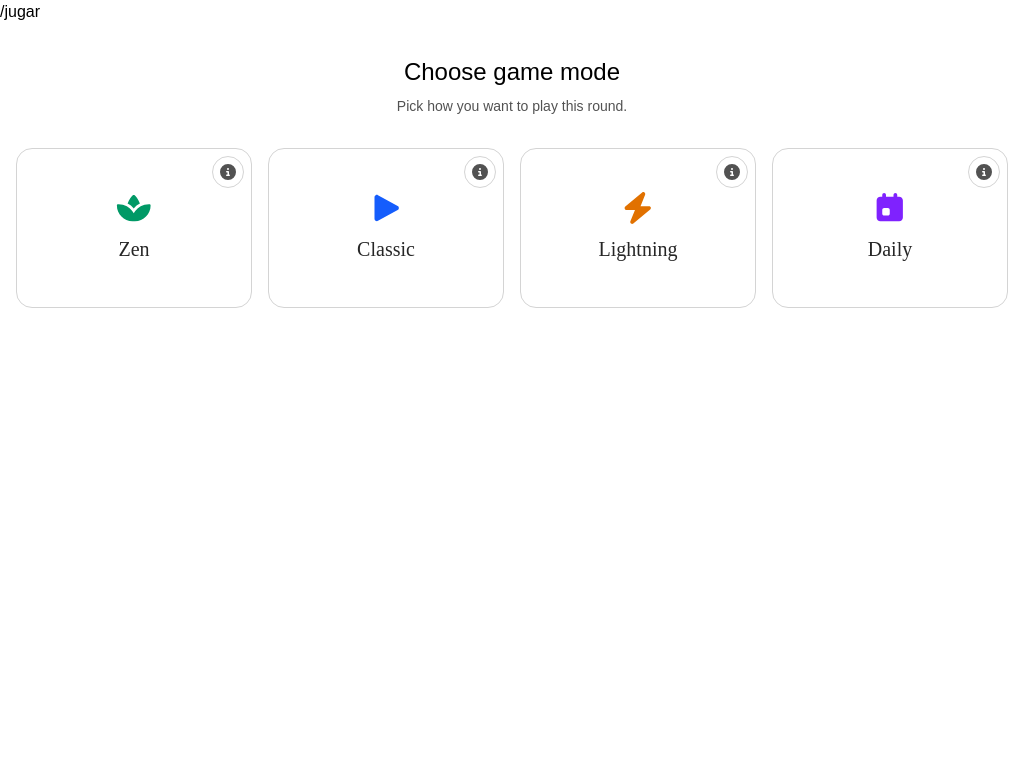
Test: GameModes › opens and closes the info dialog for a mode
Click the button named "Show details for Classic mode" at (480, 172), box top-left (464, 156), bottom-right (496, 188)
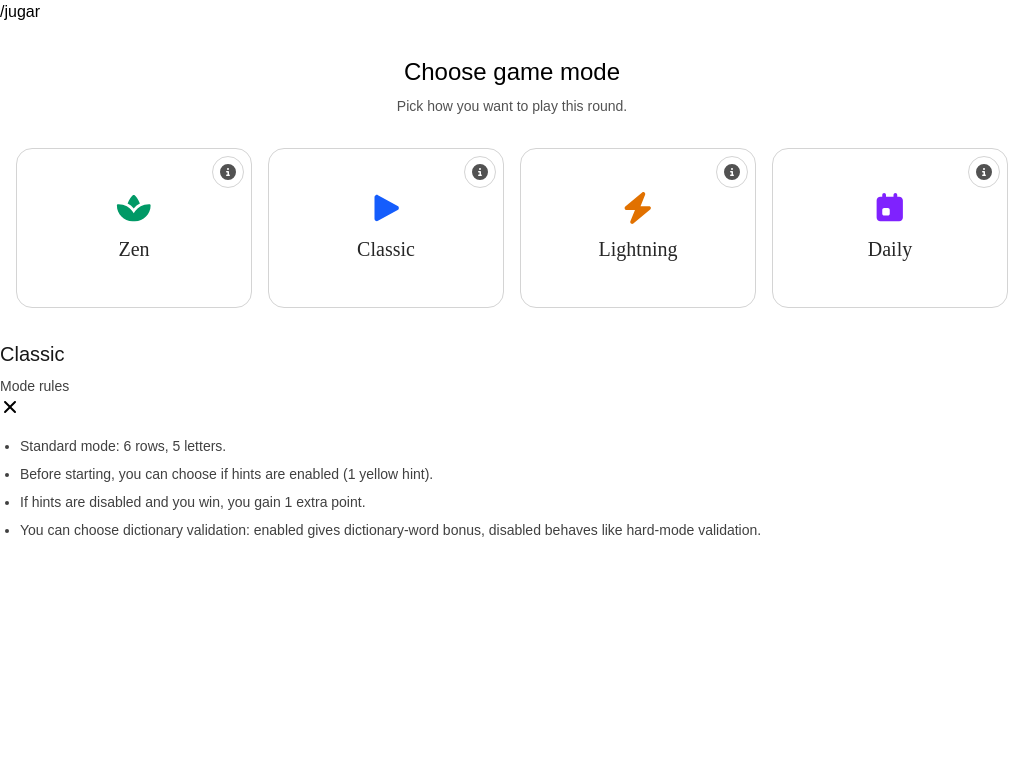
Expected: the heading "Classic" is shown, top-left (0, 343), bottom-right (64, 365)
Click the button named "Close" at (10, 408), box top-left (0, 396), bottom-right (20, 420)
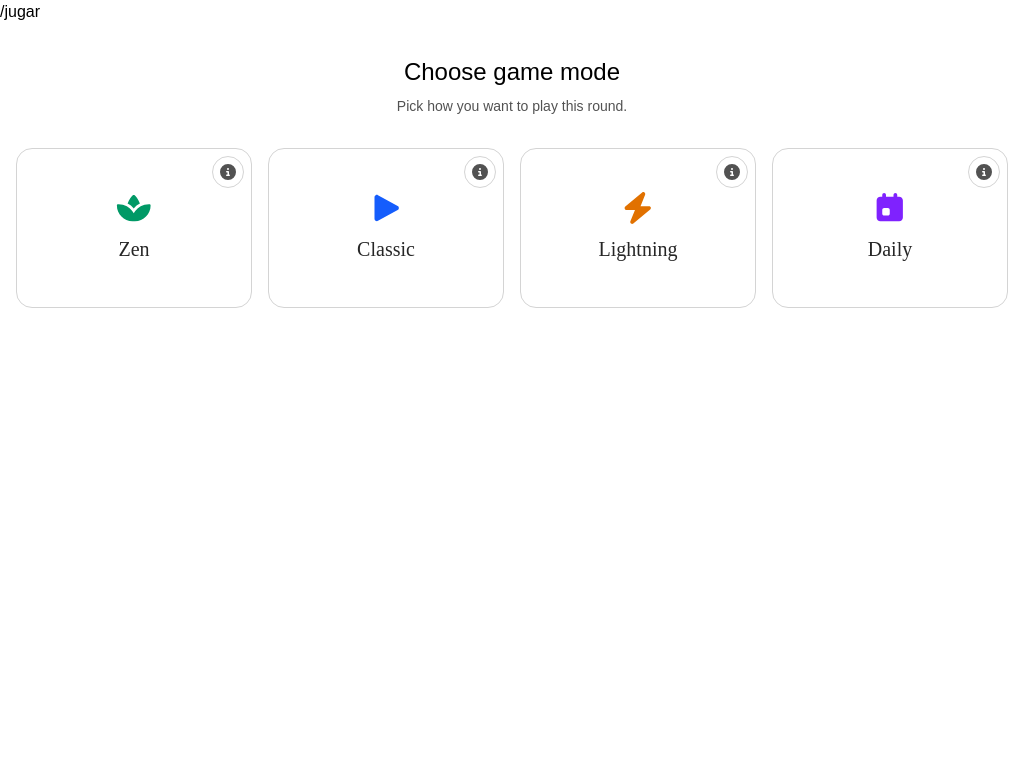
Expected: the dialog is gone
